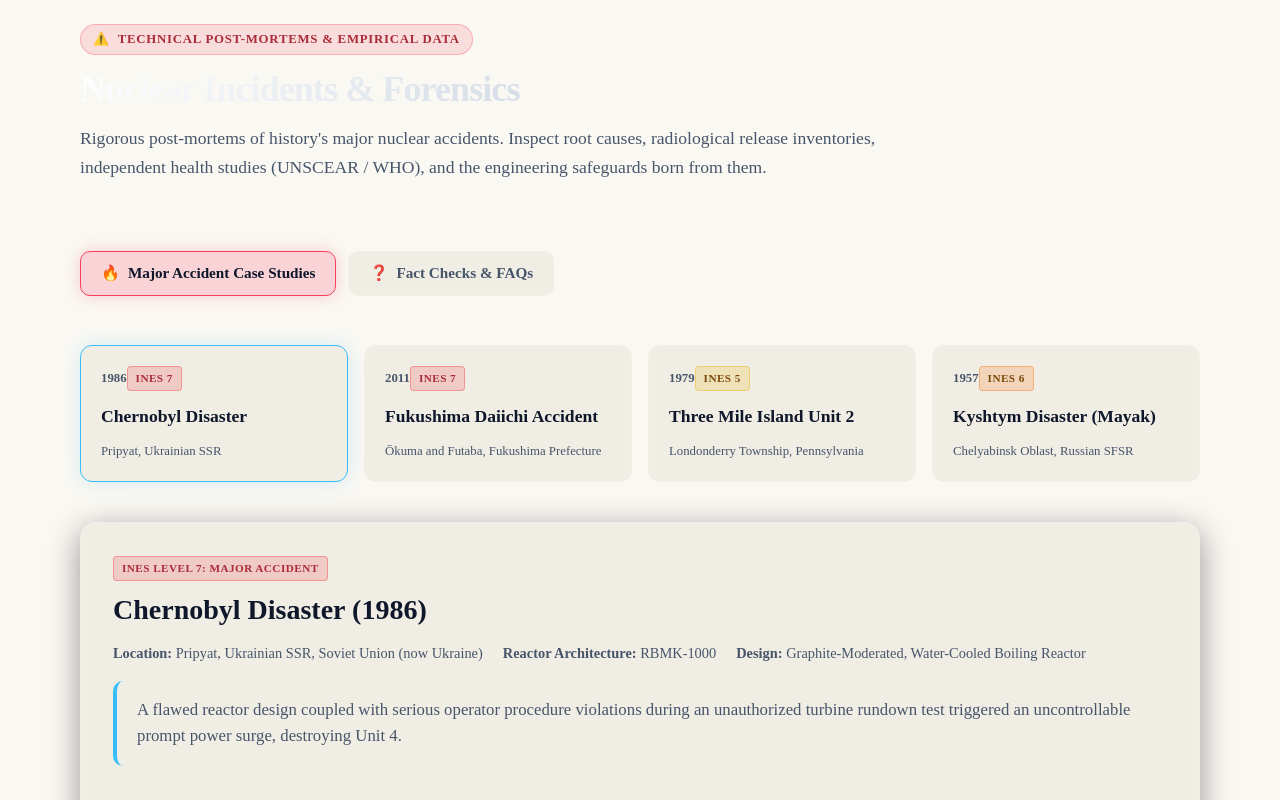
Test case: IncidentViewer Component › switches to Fukushima Daiichi and updates metadata and ines badge
Click the tab "Fukushima Daiichi Accident": (498, 414) [364,345,632,482]
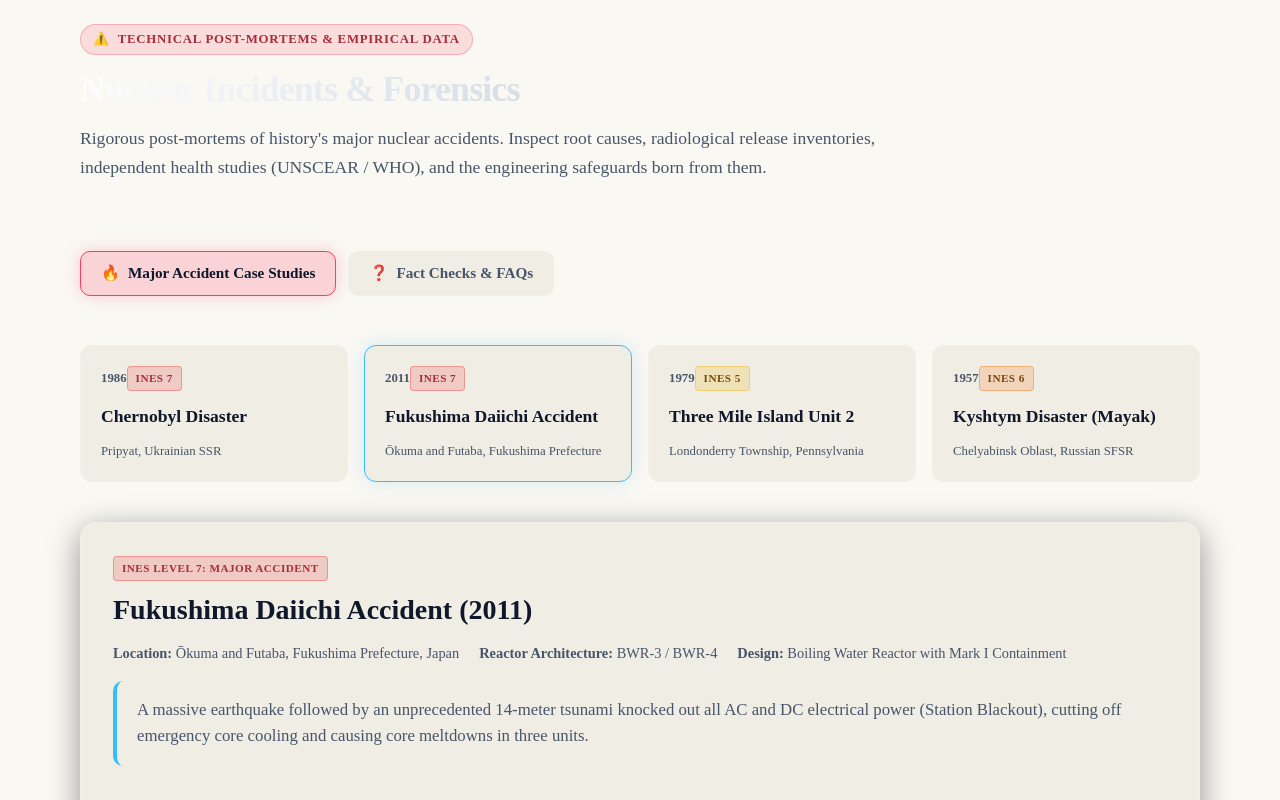
Expected: the heading "Fukushima Daiichi Accident (2011)" is shown, [113,589,532,631]
Expected: the text "Reactor Architecture: BWR-3 / BWR-4" is shown, [479,643,717,664]
